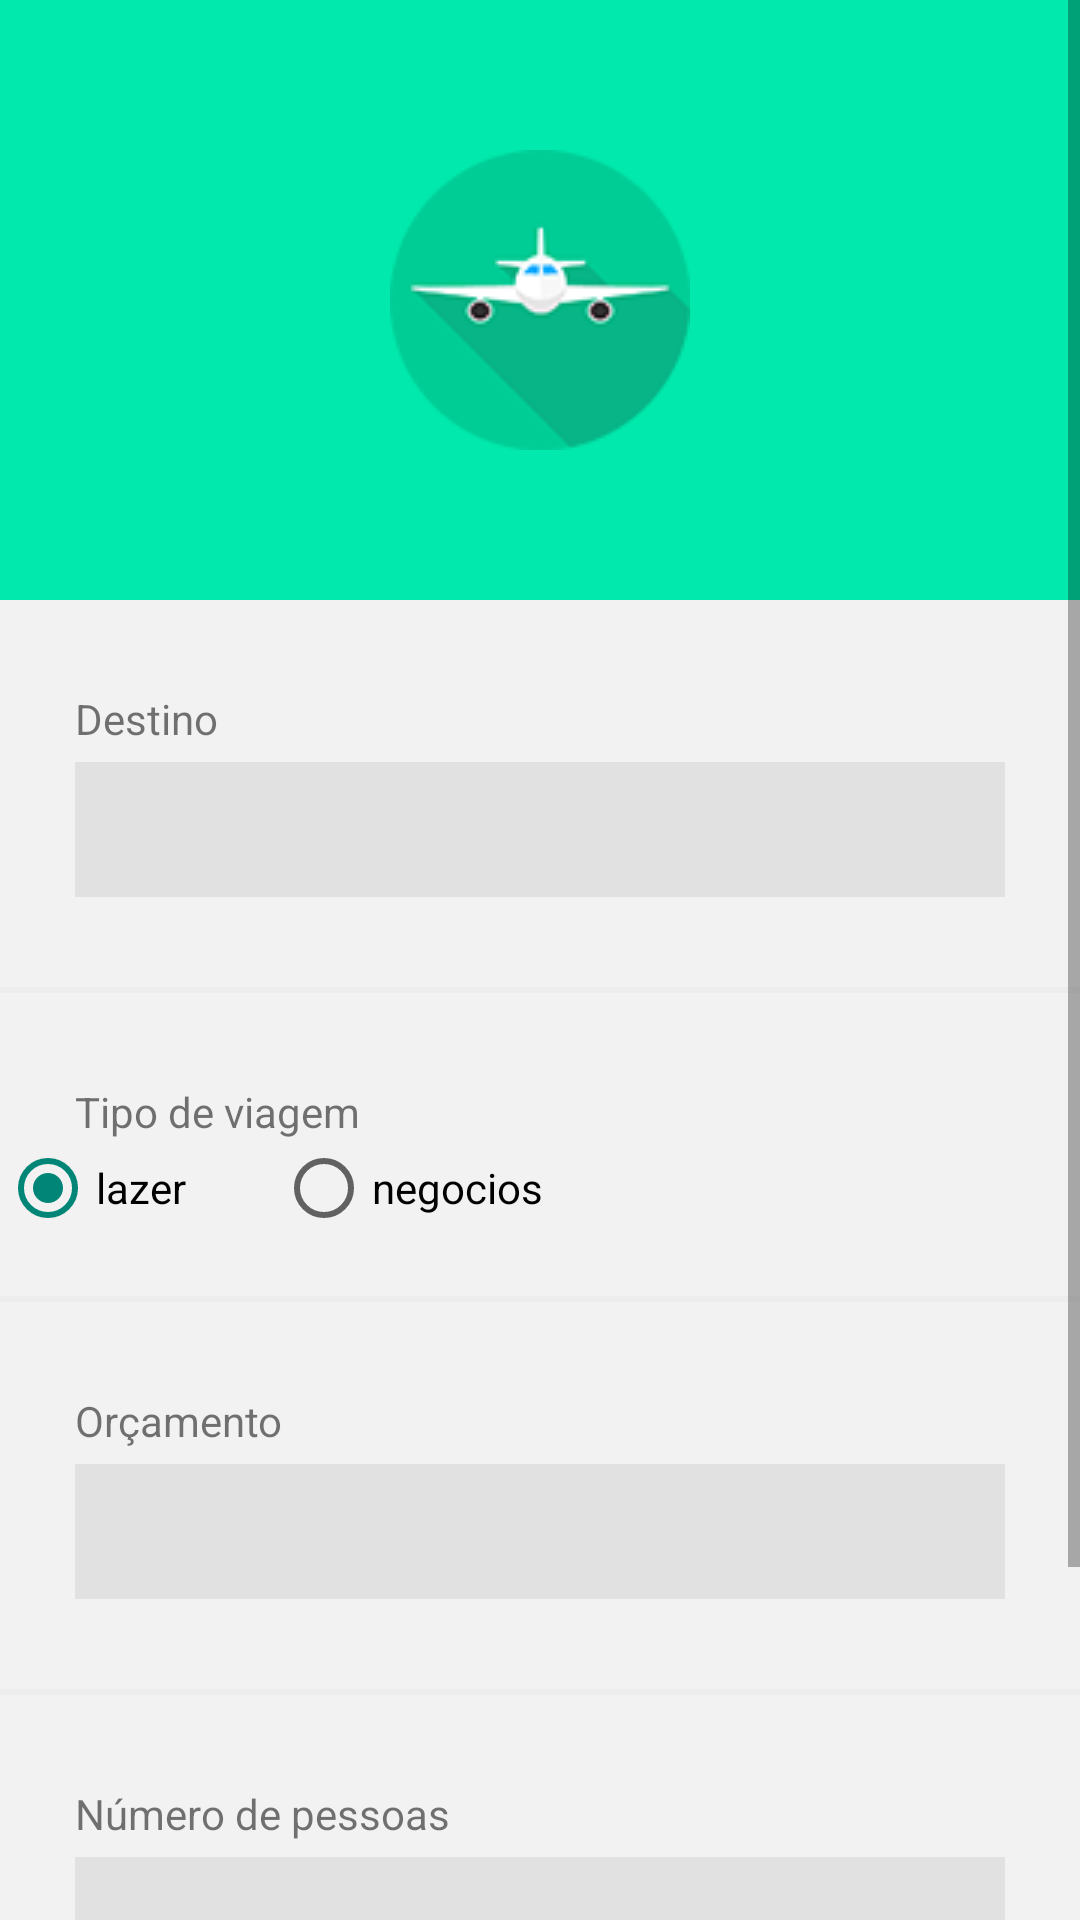

Named icons in this screenshot (1080px x 1920px) and their bounding boxes, [x1,y1,x2,y2]:
nova viagem: [390,150,690,450]
